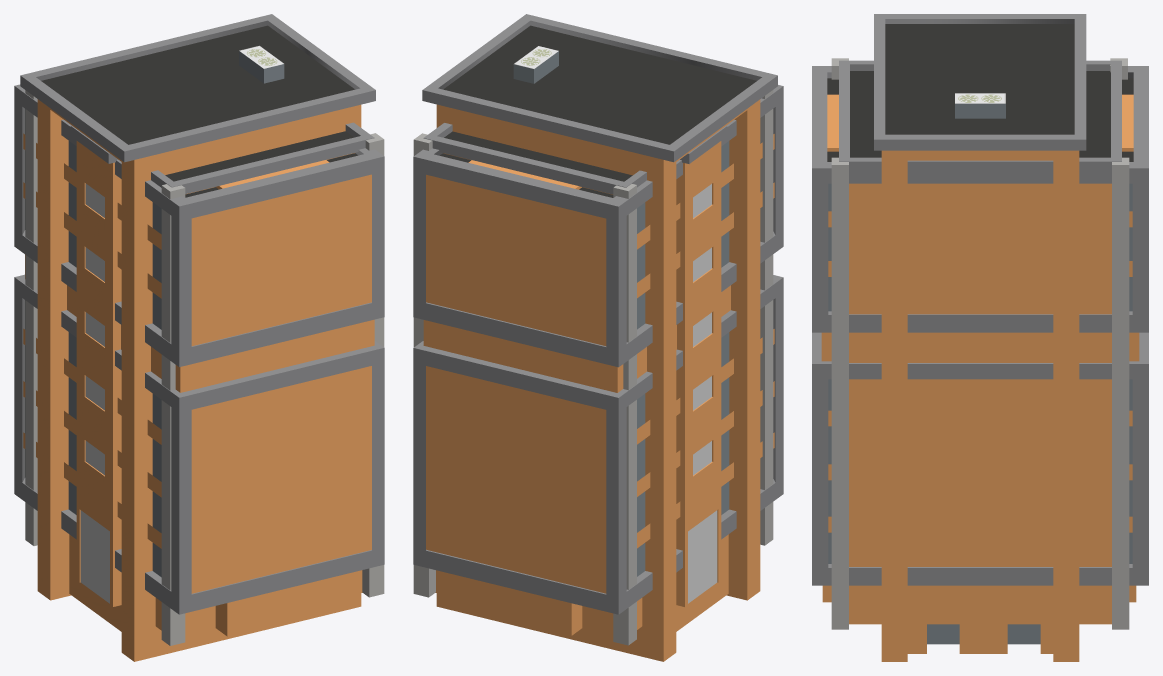
Rendered from putong_xiaoxing09.fbx.
3 renders of one model, left to right at view 1: azimuth 30°, elevation 25°; view 2: azimuth 150°, elevation 25°; view 3: azimuth 270°, elevation 25°, orthographic. The views are drawn at different scales.
Visible parts, largest first — view 1: putong_xiaoxing09; view 2: putong_xiaoxing09; view 3: putong_xiaoxing09.
Part boxes in pixels (box(x1,y1,x2,y2)): putong_xiaoxing09: box(14, 14, 384, 661); putong_xiaoxing09: box(413, 14, 783, 661); putong_xiaoxing09: box(812, 14, 1148, 661).
Size of the model in its own units: 4.81 by 5.45 by 9.6.
